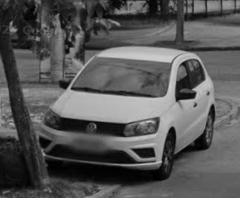car: (39, 44, 217, 181)
